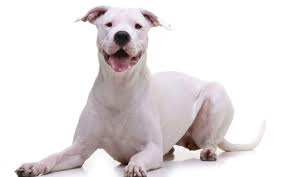dog: (16, 3, 266, 177)
